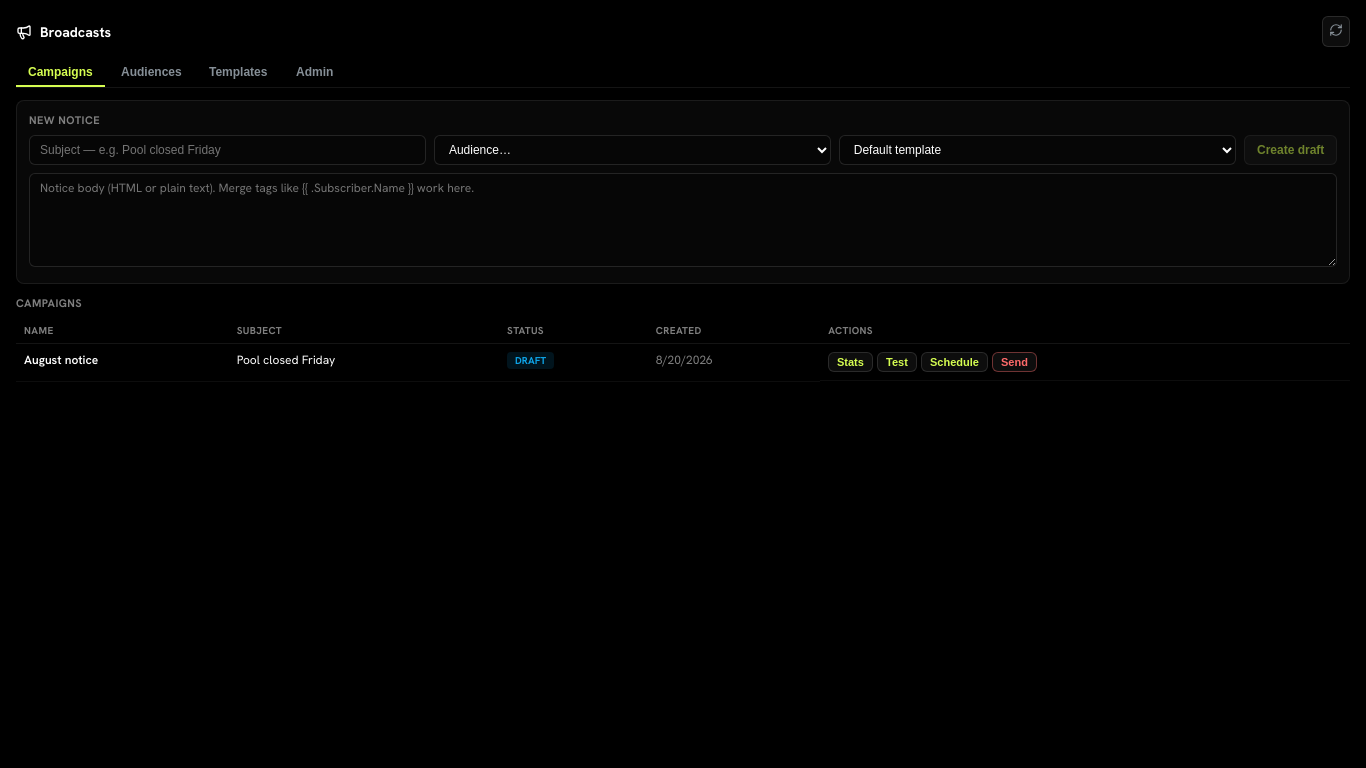
Test: Broadcasts widget — Campaigns tab › Cancel closes the dialog without any PUT
This screenshot has width=1366, height=768.
Check: the tab "Campaigns" is shown, box [16,59,105,87]
Click the button with aria-label "Send August notice" at (1014, 362), box [992,352,1037,372]
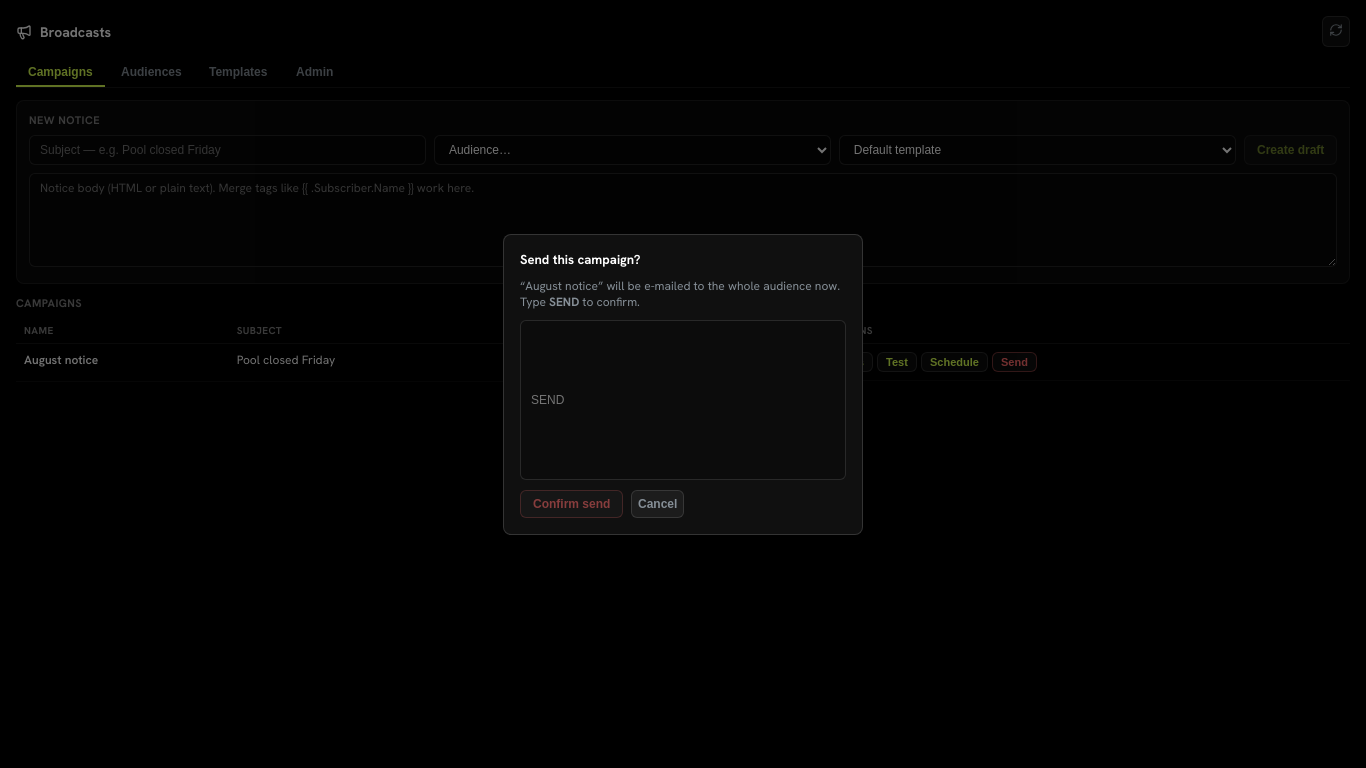
Click the button "Cancel" at (658, 504), box [631,490,685,518]
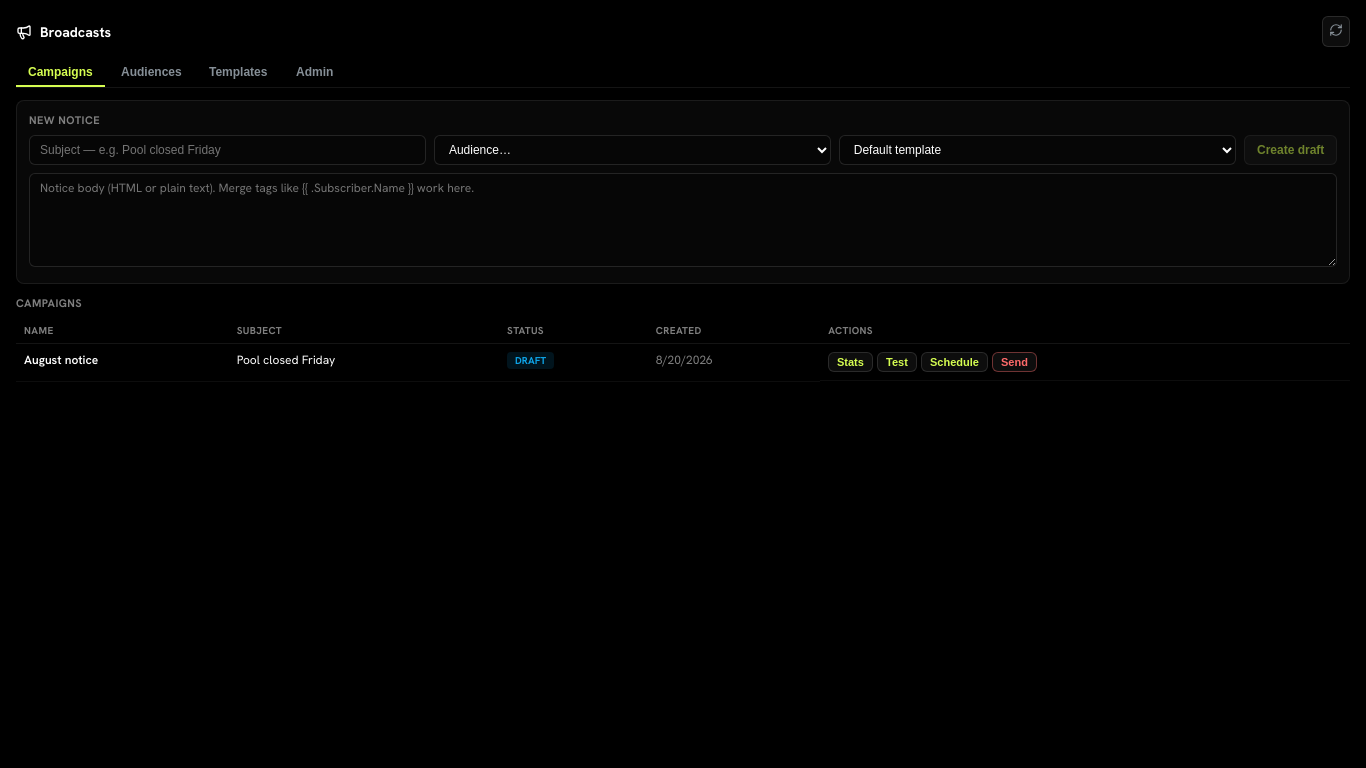
Check: the dialog is gone
